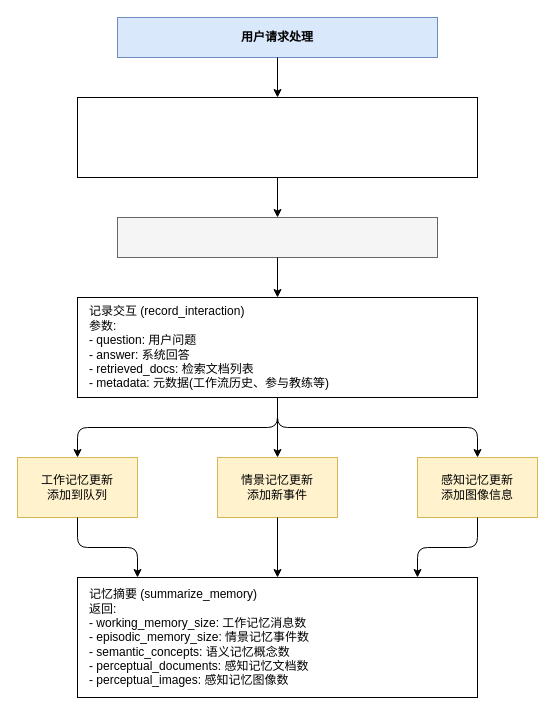
Some shapes in this 555 by 715 pixel diagram are drawn without their labels. The centre of each missing label's shape, as x and y in pixels:
RAG检索与答案生成: point (277, 237)
获取上下文 (get_context_for_query) 1. 从工作记忆获取最近对话上下文 2. 格式化为上下文字符串 3. 返回给RAG模块使用: point (277, 137)
